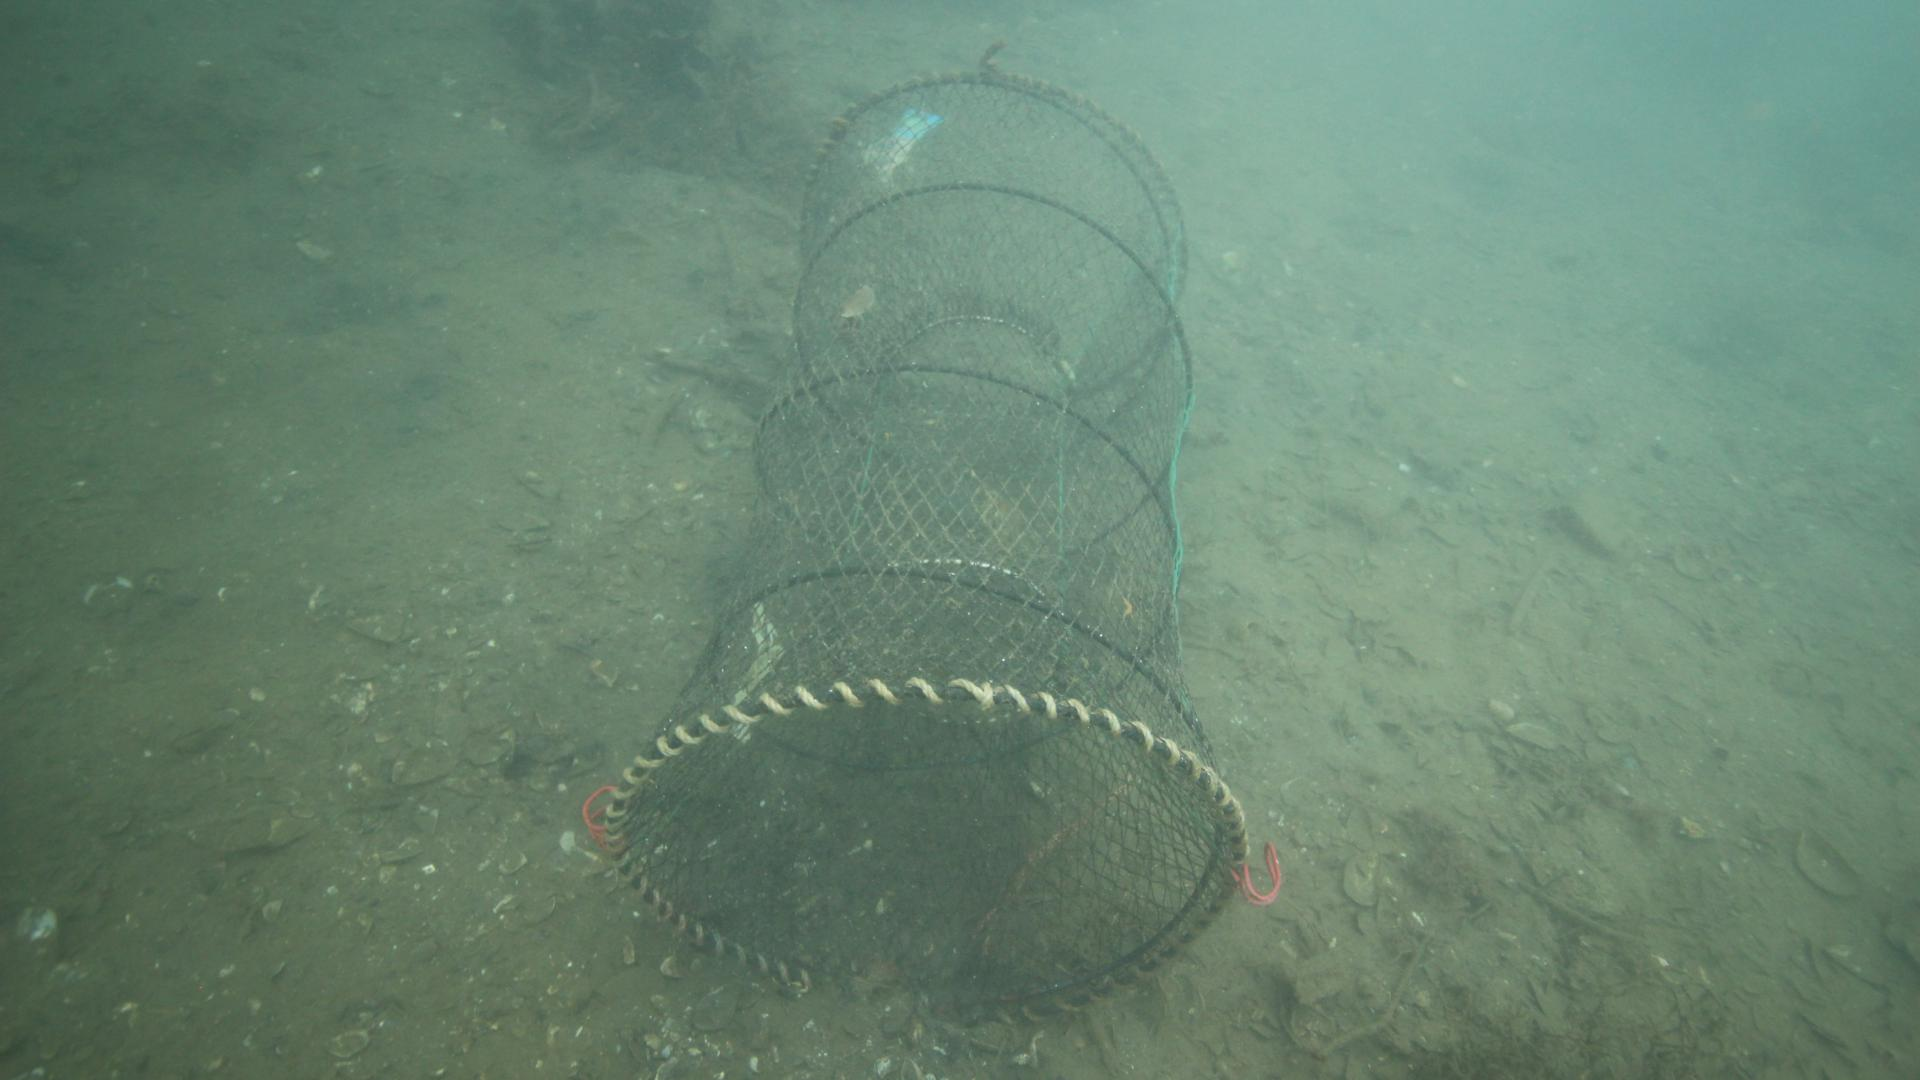spring fish trap: (600, 76, 1251, 1015)
